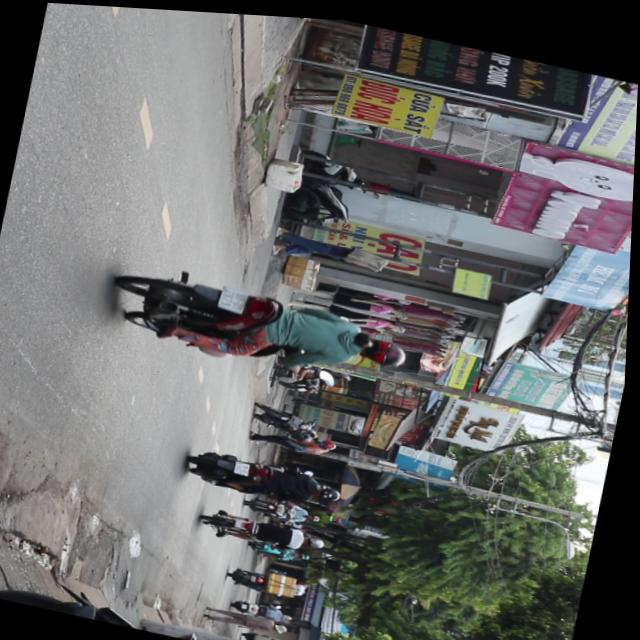helmet: (359, 327, 412, 365)
licenseplate: (107, 253, 420, 391)
nohelmet: (221, 281, 252, 311)
